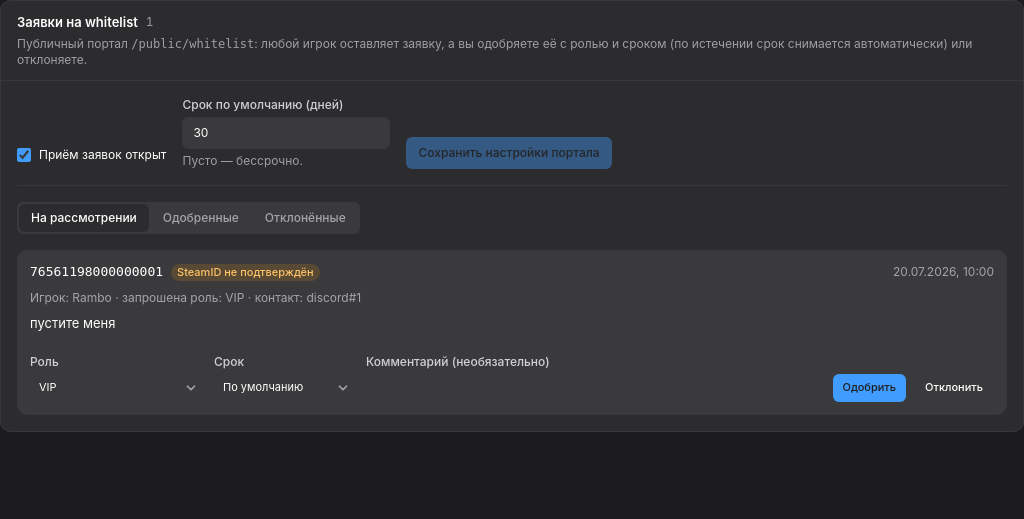
Scenario: ApplicationsSection › sends role + explicit expires_at when approving with a term preset
This screenshot has width=1024, height=519.
Expected: the text "76561198000000001" is shown, [30,263,163,282]
pick the 90-day term, then approve
Select "90 дней" in the dropdown showing "По умолчанию" at [286, 388], box [214,374,358,402]
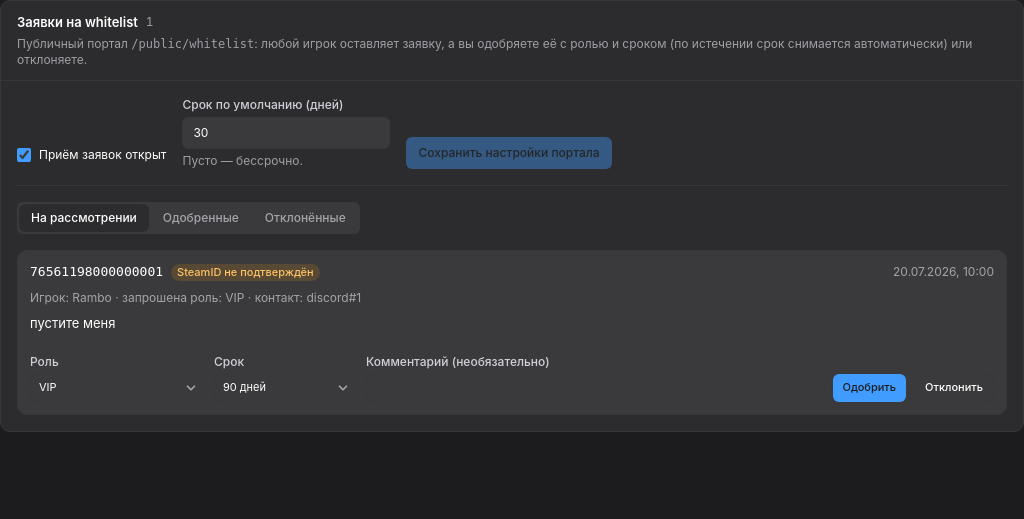
Click the button "Одобрить" at [869, 388], box [832,374,906,402]
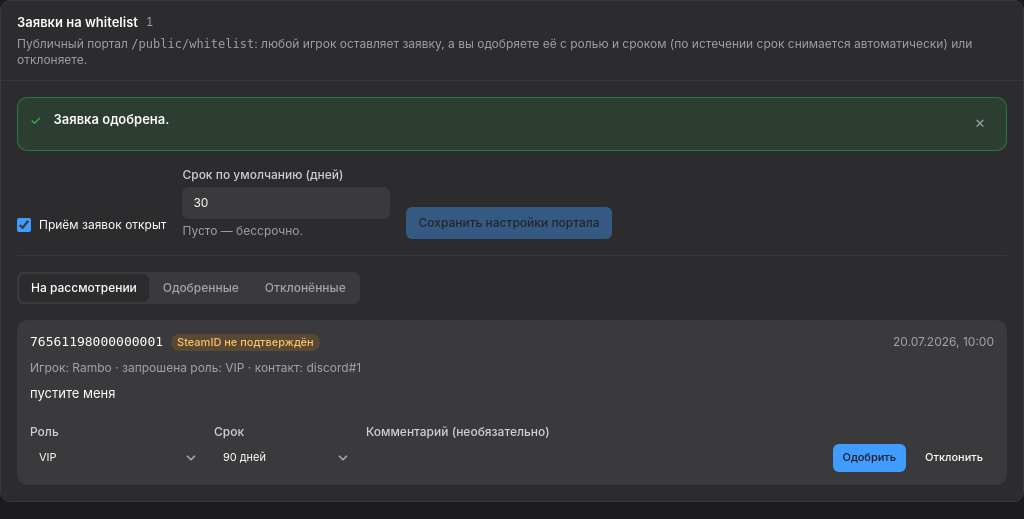
Expected: the text "Заявка одобрена." is shown, [54,111,169,127]
